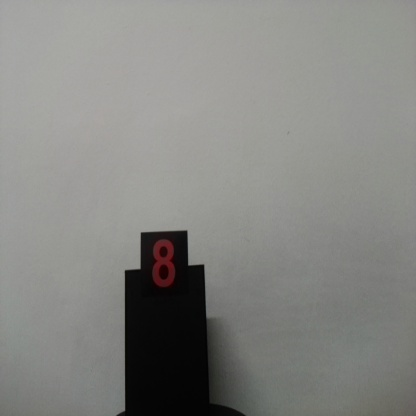id_8: (140, 233, 188, 302)
